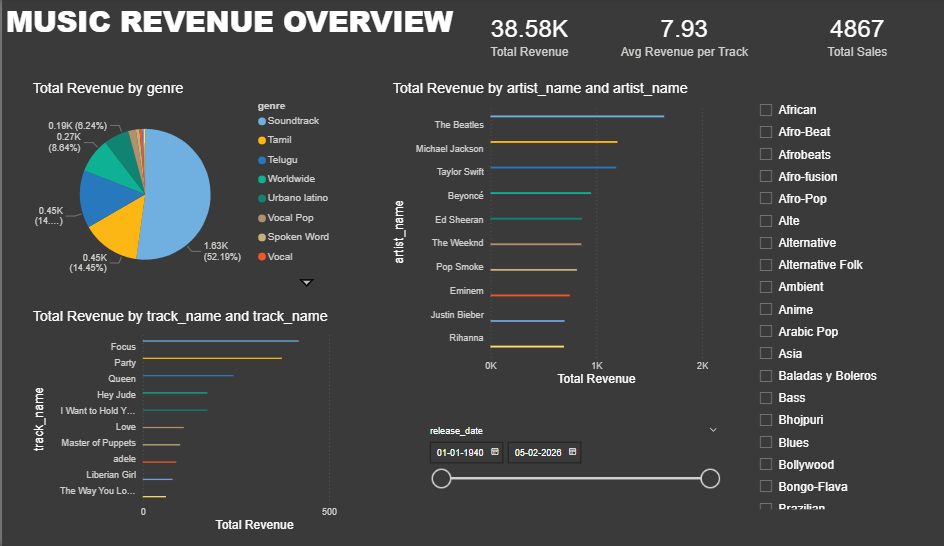

Layout of this report page (visuals, bound fields, positions):
{"tool":"powerbi","page":{"name":"Page 3","canvas":[1280,720],"ordinal":2},"visuals":[{"type":"slicer","fields":{"Values":["itunes_music_dataset.genre"]},"box":[978.9,109.2,279.9,566.9],"z":0},{"type":"slicer","fields":{"Values":["itunes_music_dataset.release_date"]},"box":[547.6,556.4,401.4,126.8],"z":1000},{"type":"textbox","box":[0,0,1280,132.7],"z":2000},{"type":"card","fields":{"Values":["itunes_music_dataset.Avg Revenue per Track"]},"box":[787,0,213,96.8],"z":3000},{"type":"card","fields":{"Values":["itunes_music_dataset.Total Revenue"]},"box":[600.4,0,179.6,96.8],"z":4000},{"type":"card","fields":{"Values":["itunes_music_dataset.Total Sales"]},"box":[1051.1,0,137.3,96.8],"z":5000},{"type":"clusteredBarChart","fields":{"Category":["itunes_music_dataset.track_name"],"Y":["itunes_music_dataset.Total Revenue"],"Series":["itunes_music_dataset.track_name"]},"box":[35.2,406.7,457.8,297.6],"z":6000},{"type":"clusteredBarChart","fields":{"Category":["itunes_music_dataset.artist_name"],"Y":["itunes_music_dataset.Total Revenue"],"Series":["itunes_music_dataset.artist_name"]},"box":[506.9,108.7,423.2,404.1],"z":7000},{"type":"pieChart","fields":{"Category":["itunes_music_dataset.genre"],"Y":["itunes_music_dataset.Total Revenue"]},"box":[35.2,109.2,431.4,278.2],"z":8000}]}

Visuals, with their boxes in screenshot pixels (x1, y1, x2, y2), scaled from the page's 1280x720 canvas onto the 944x546 screenshot:
slicer - itunes_music_dataset.genre: (722, 83, 928, 513)
slicer - itunes_music_dataset.release_date: (404, 422, 700, 518)
textbox: (0, 0, 943, 101)
card - itunes_music_dataset.Avg Revenue per Track: (580, 0, 738, 73)
card - itunes_music_dataset.Total Revenue: (443, 0, 575, 73)
card - itunes_music_dataset.Total Sales: (775, 0, 876, 73)
clusteredBarChart - itunes_music_dataset.track_name x itunes_music_dataset.Total Revenue: (26, 308, 364, 534)
clusteredBarChart - itunes_music_dataset.artist_name x itunes_music_dataset.Total Revenue: (374, 82, 686, 389)
pieChart - itunes_music_dataset.genre x itunes_music_dataset.Total Revenue: (26, 83, 344, 294)
